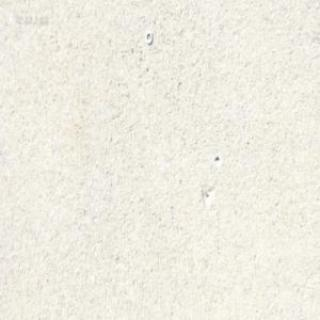Washertrack_idkeyframe: (144, 30, 152, 44)
